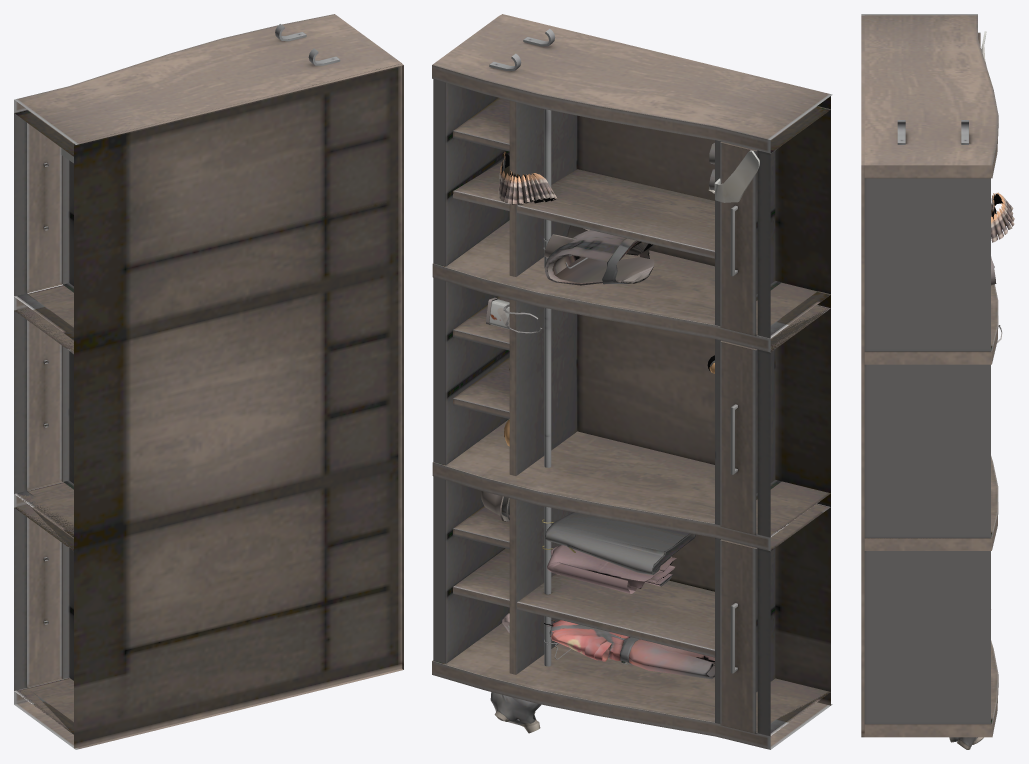
Rendered from props_gameplay_uniform_locker.glb.
The picture shows the model from 3 angles, left to right: view 1: azimuth 30°, elevation 25°; view 2: azimuth 150°, elevation 25°; view 3: azimuth 270°, elevation 25°; orthographic projection. The views are drawn at different scales.
Parts seen in each view (by area): view 1: models/props_gameplay/uniform_locker; view 2: models/props_gameplay/uniform_locker; view 3: models/props_gameplay/uniform_locker.
Part boxes in pixels (x1=…): models/props_gameplay/uniform_locker: x1=14, y1=14, x2=403, y2=749; models/props_gameplay/uniform_locker: x1=432, y1=14, x2=832, y2=749; models/props_gameplay/uniform_locker: x1=861, y1=14, x2=1014, y2=749.
Bounding box in the file's own units: 101 × 197 × 43.35.
1 material, 1 textured.
